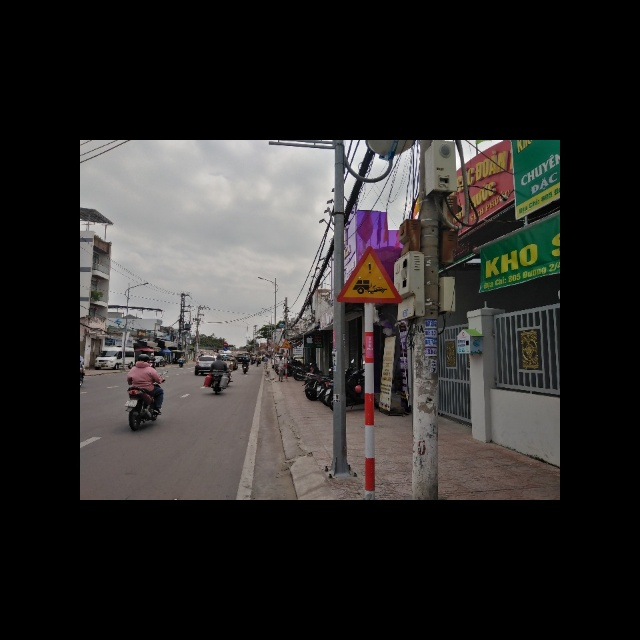Đoạn đường hay xảy ra tai nạn: (337, 246, 403, 304)
Đường đôi: (280, 338, 293, 349)
